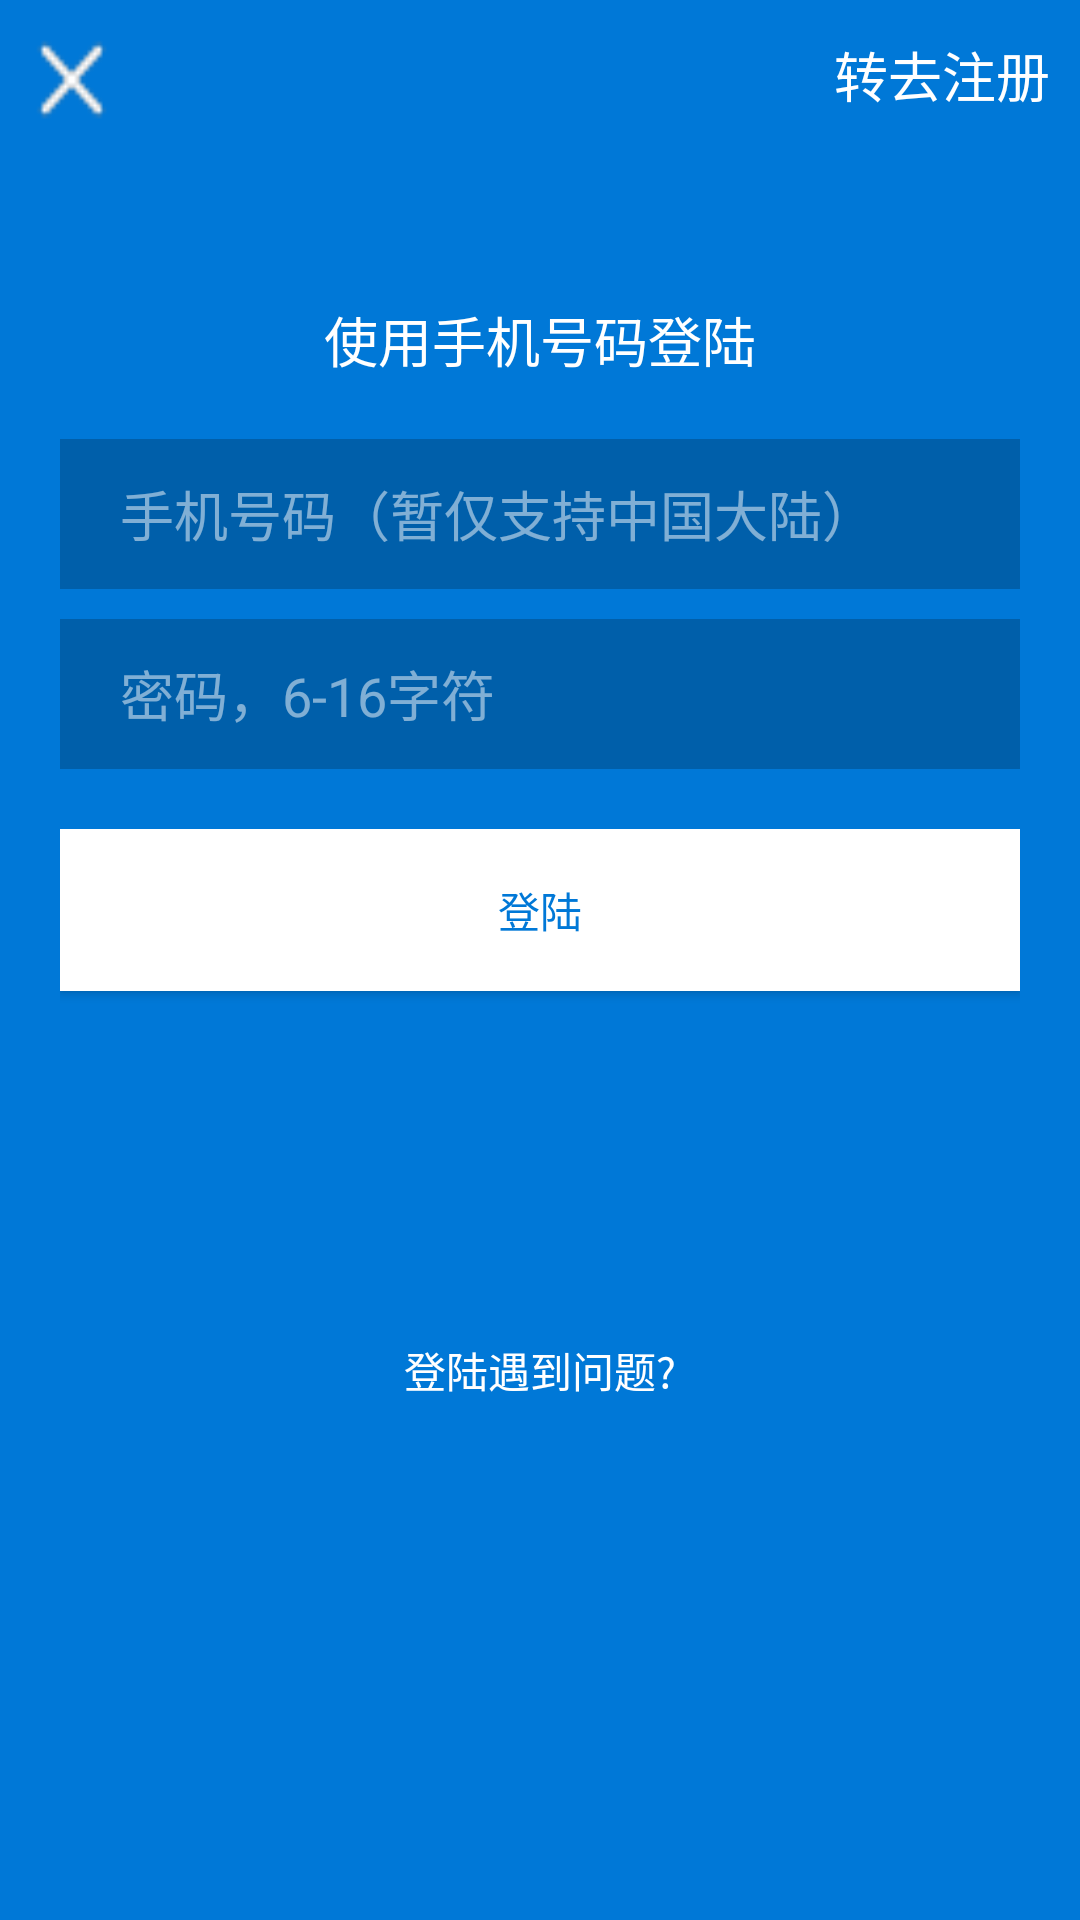

Point at icon controls on the screen. Image size 1080 x 1920, points as (x=x, y=y).
close while: (x=71, y=79)
